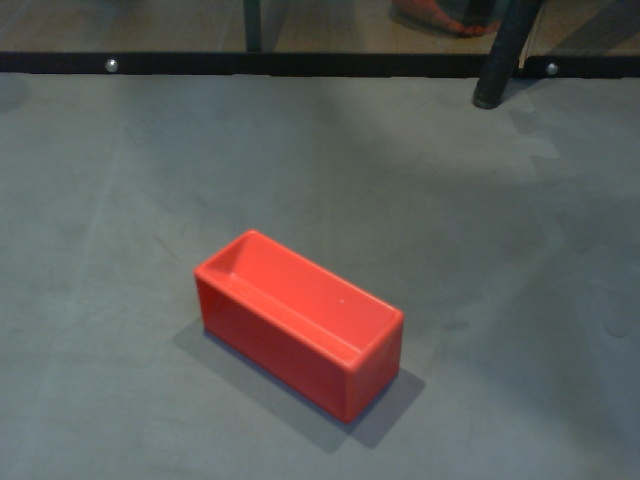RedSample: (190, 226, 409, 427)
